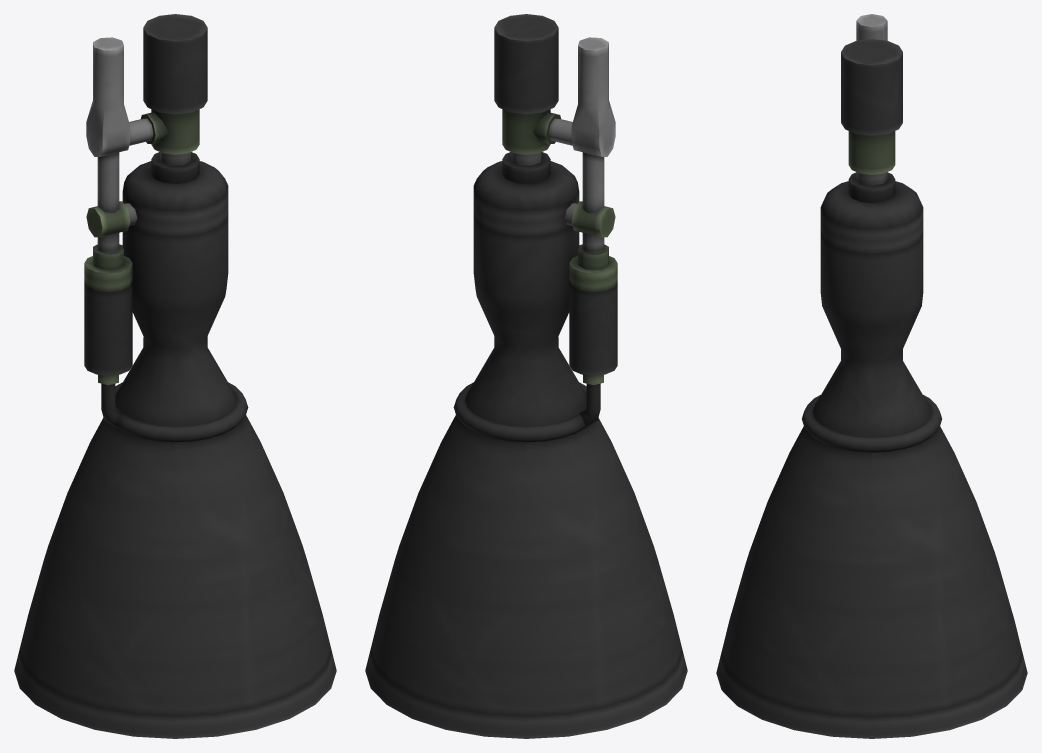
The model's file is grus_engine_srf_1.obj.
3 views of the same model, side by side, from view 1: azimuth 30°, elevation 25°; view 2: azimuth 150°, elevation 25°; view 3: azimuth 270°, elevation 25° (orthographic). The views are drawn at different scales.
Visible parts, largest first — view 1: 1; view 2: 1; view 3: 1.
Part boxes in pixels (bbox=[...]): 1: bbox=[14, 14, 336, 738]; 1: bbox=[365, 14, 687, 738]; 1: bbox=[716, 14, 1027, 738].
Bounding box in the file's own units: 0.25 × 0.55 × 0.25.
1 material, 1 textured.
